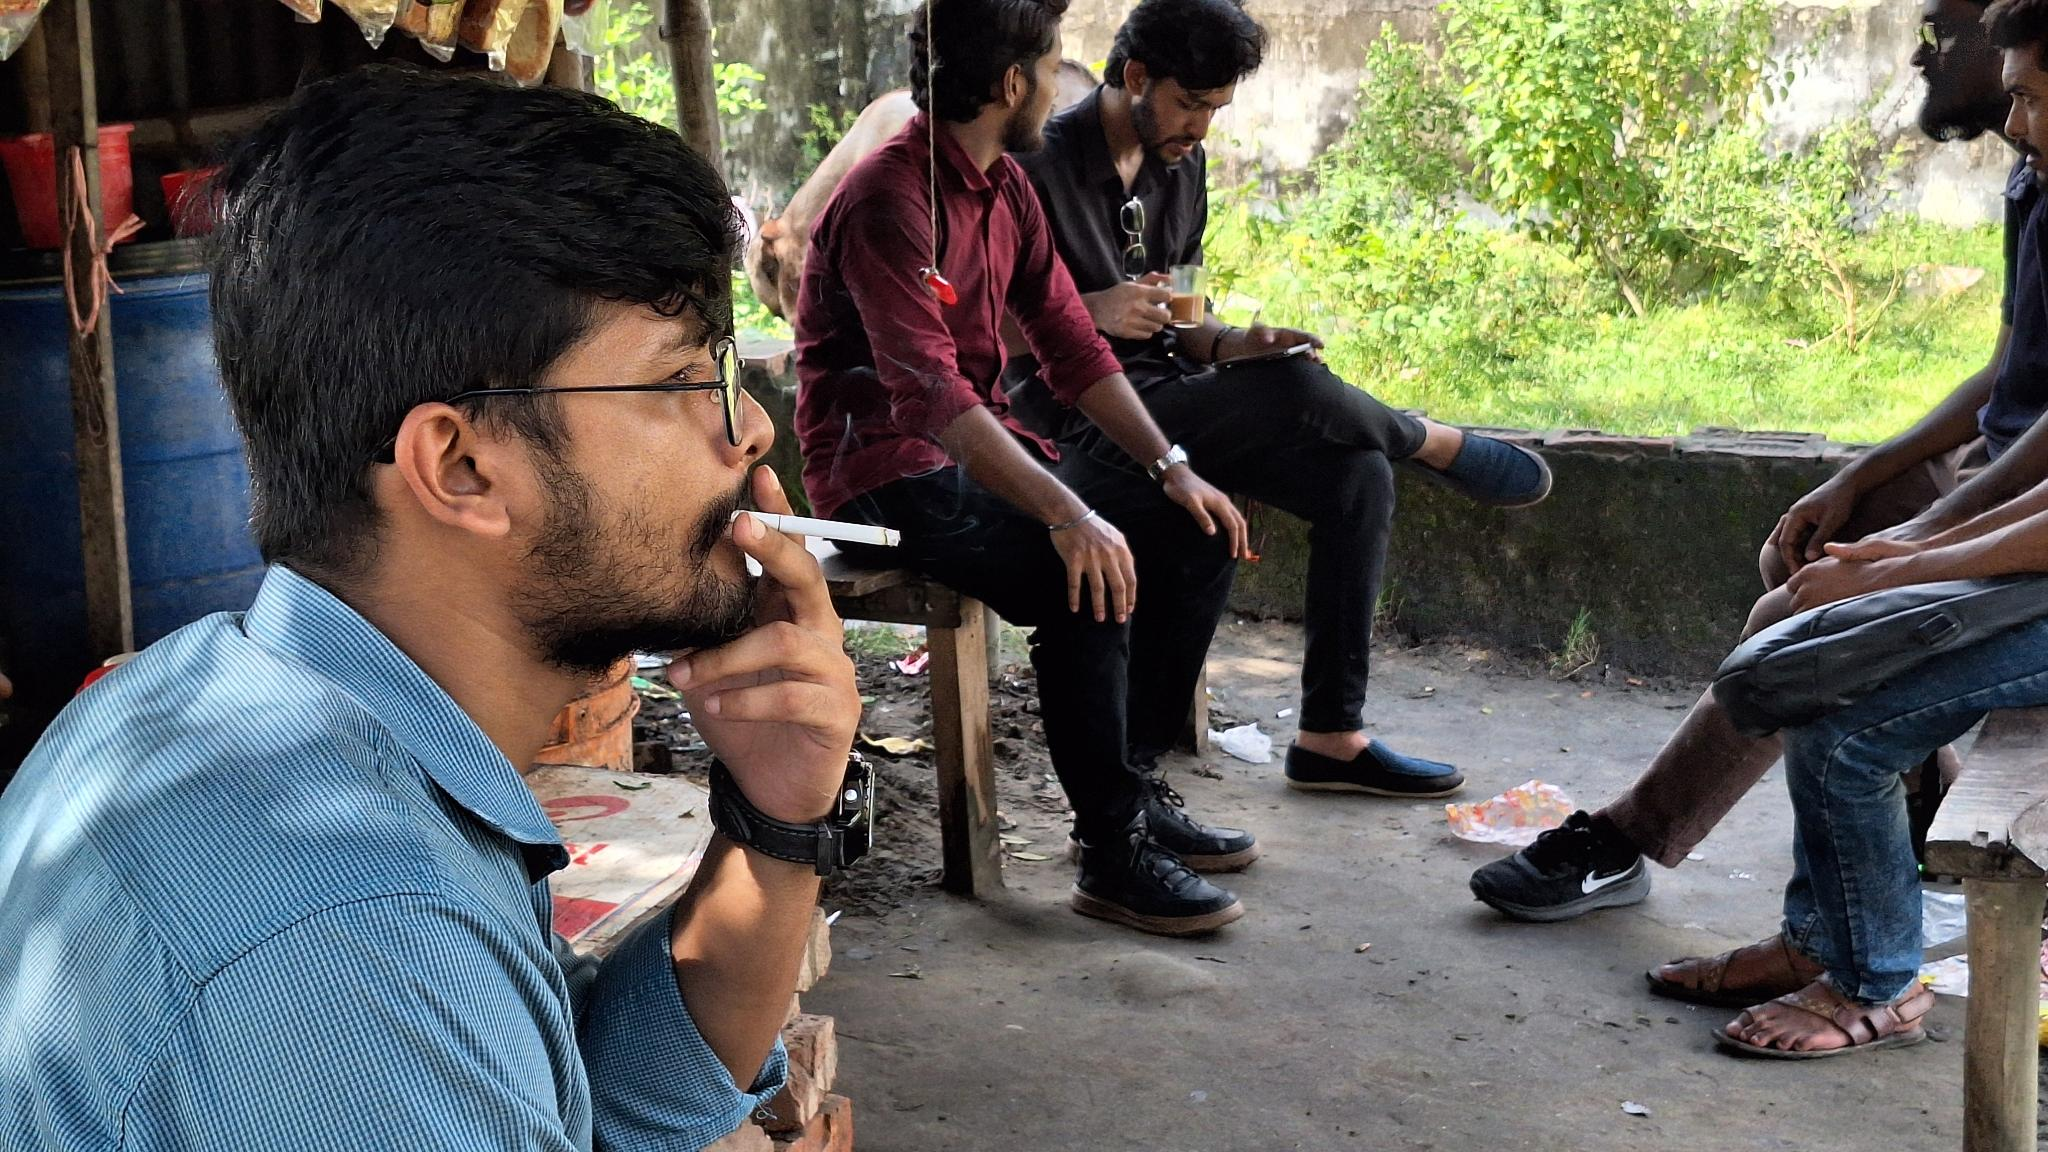cigarette: (723, 499, 906, 557)
nonSmoker: (1470, 0, 2048, 1066), (803, 0, 1252, 934), (1068, 0, 1557, 806)
smoker: (0, 69, 859, 1152)
